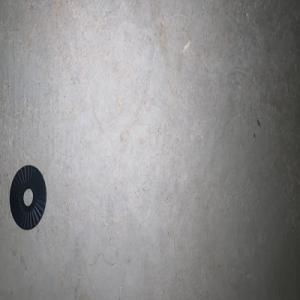Washer: (9, 165, 46, 229)
